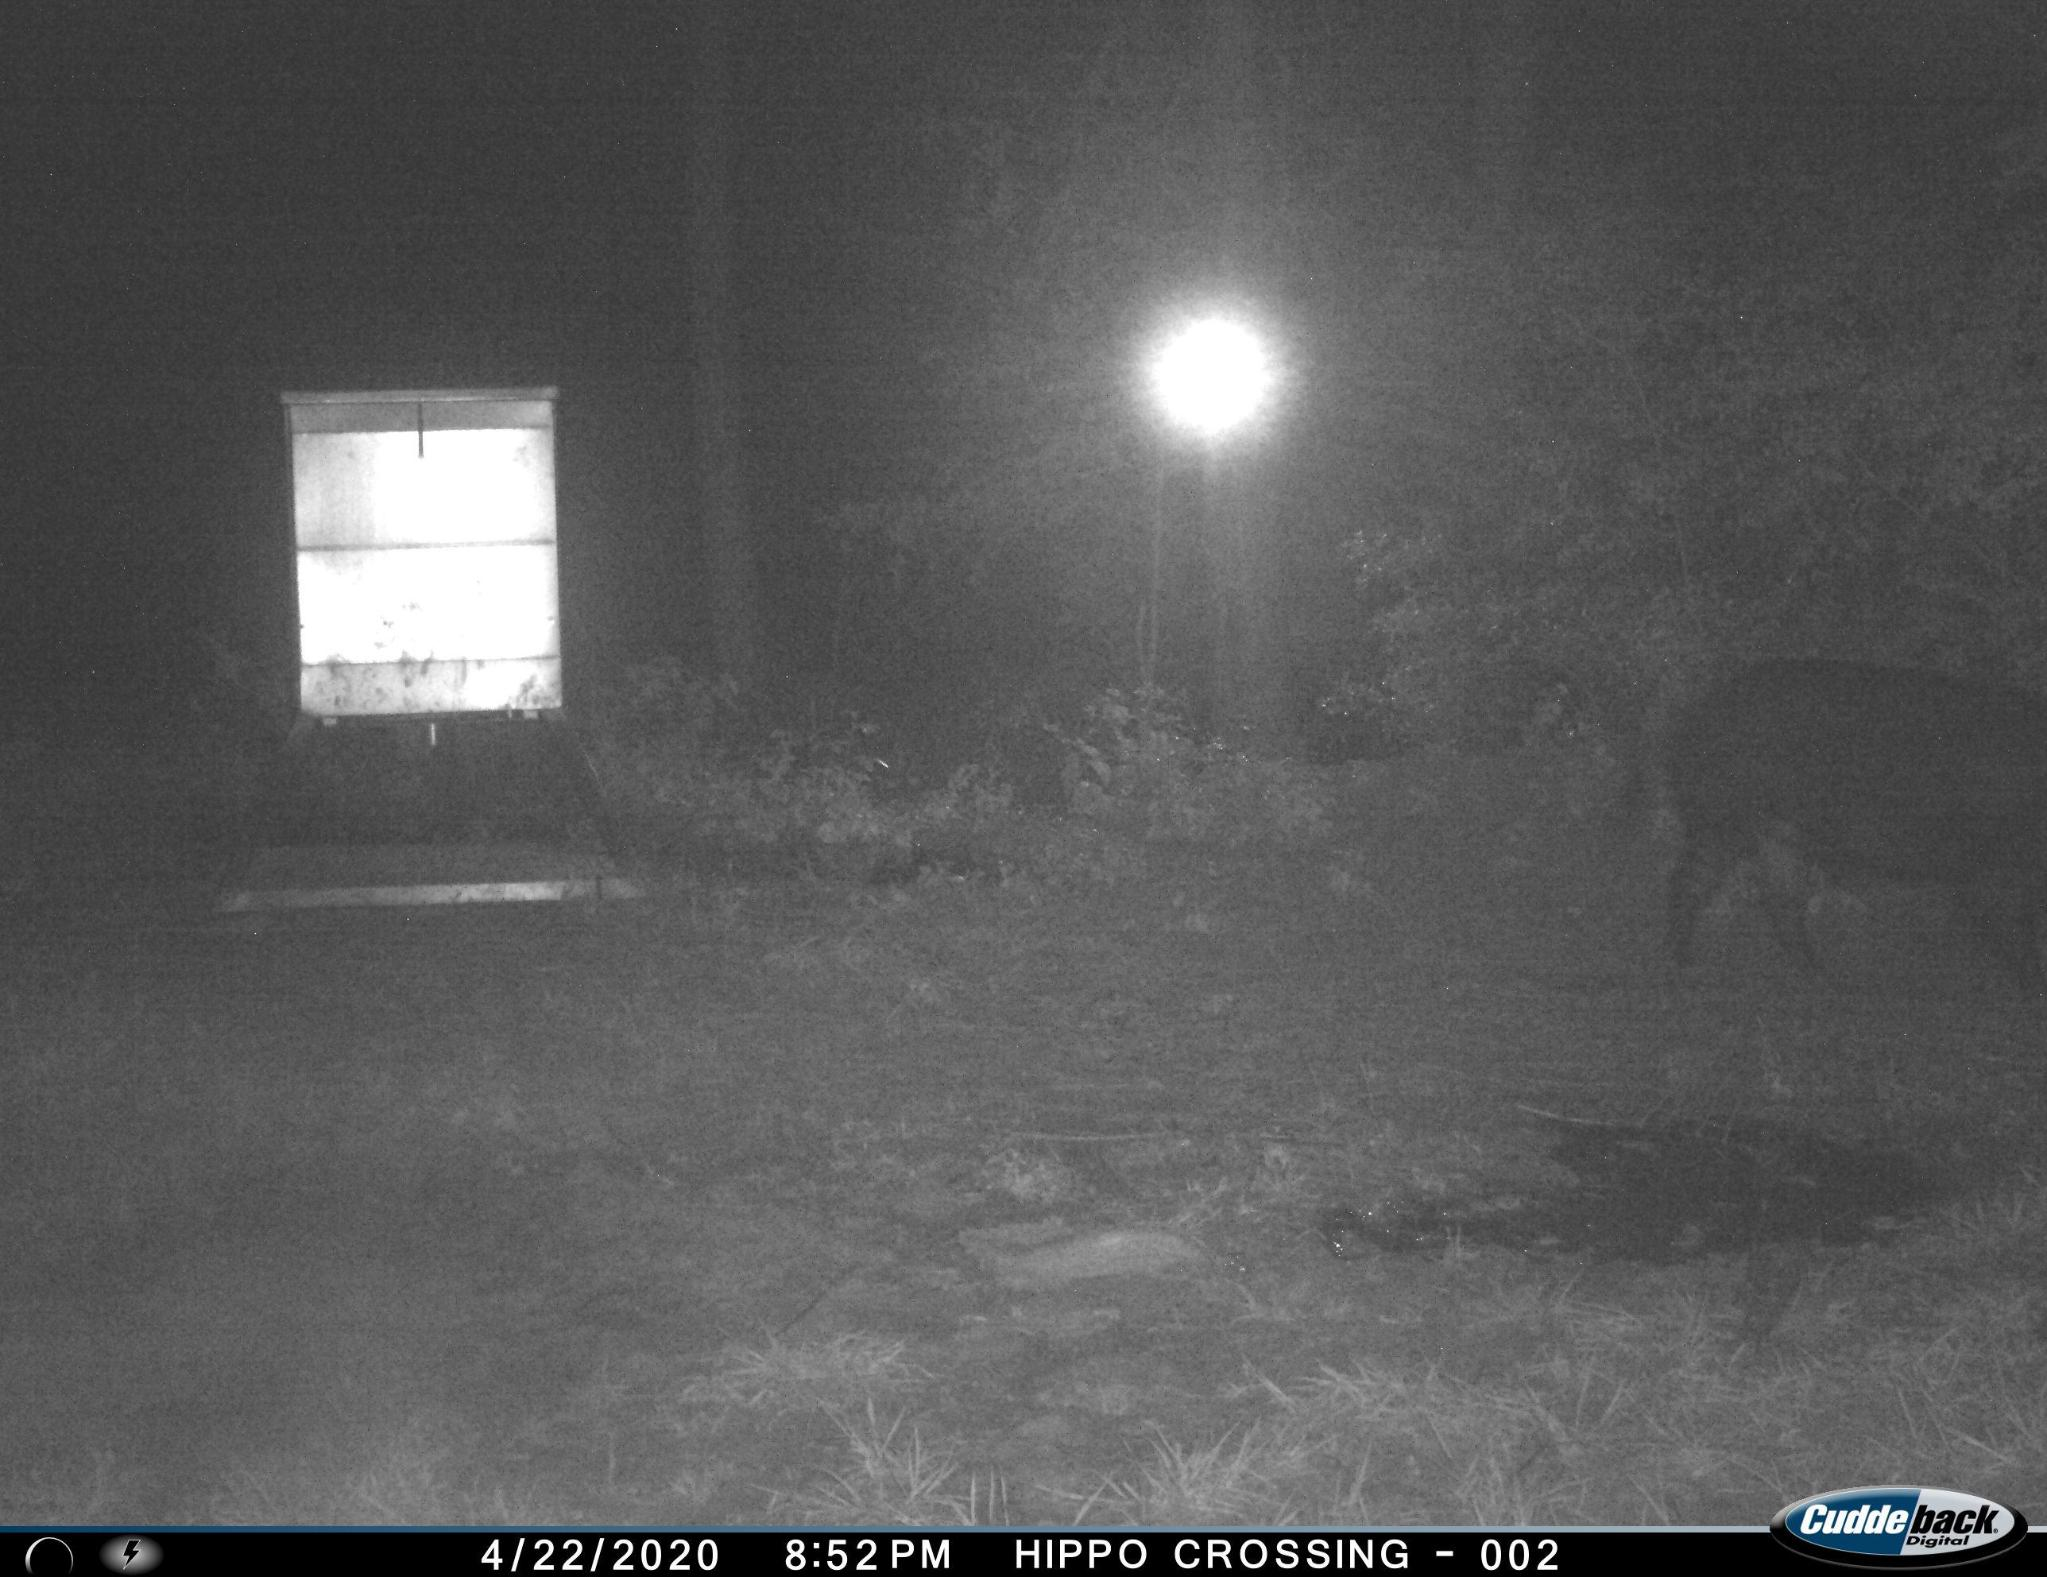Hog: (1638, 634, 2047, 1032)
